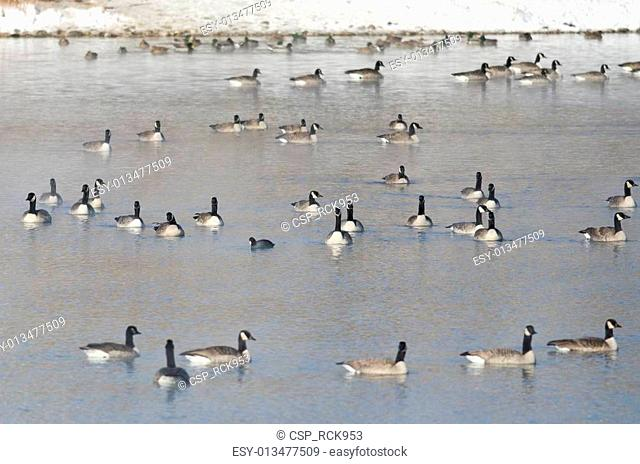goose: (459, 324, 538, 366), (179, 327, 257, 367), (548, 318, 624, 355), (336, 339, 411, 376), (80, 323, 142, 359), (154, 337, 190, 392), (577, 212, 630, 243), (19, 190, 54, 228), (448, 203, 490, 234), (605, 174, 638, 209), (112, 198, 147, 231), (191, 195, 224, 229), (324, 203, 349, 247), (376, 122, 425, 144), (79, 126, 115, 155), (406, 192, 433, 230), (276, 122, 324, 143), (473, 211, 505, 241), (451, 60, 494, 82), (570, 60, 612, 82), (153, 212, 186, 239), (512, 51, 552, 73), (68, 183, 94, 216), (134, 119, 168, 144), (345, 60, 386, 80), (523, 58, 562, 79), (38, 176, 64, 207), (286, 67, 328, 86), (288, 189, 324, 211), (459, 171, 484, 201), (341, 199, 364, 231), (226, 68, 266, 85), (86, 177, 107, 209), (209, 113, 244, 132), (382, 163, 410, 185), (486, 56, 517, 74), (480, 183, 503, 207), (517, 68, 551, 84), (276, 116, 310, 132), (240, 112, 268, 129), (387, 112, 409, 130)
